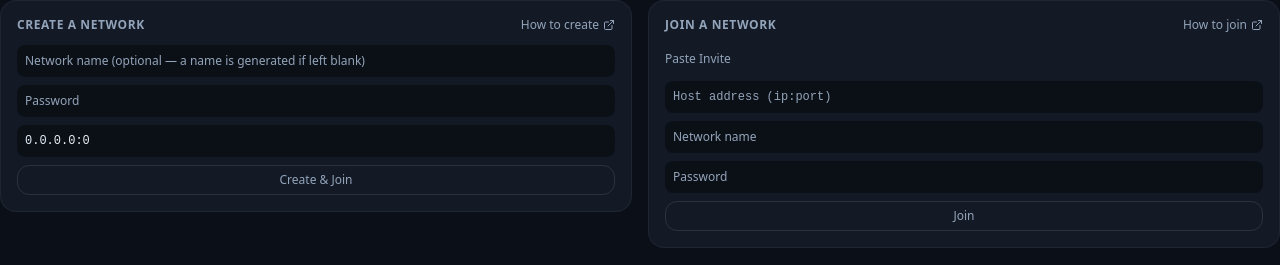
Test: VirtualNetworkPanel — not in any network › disables Create until a password is entered — the name is optional
The image size is (1280, 265).
Expected: the button with test id "vn-create-btn" is disabled, top-left (17, 165), bottom-right (615, 195)
Type "secret" into the password field with test id "vn-create-password" at (316, 101), box top-left (17, 85), bottom-right (615, 117)
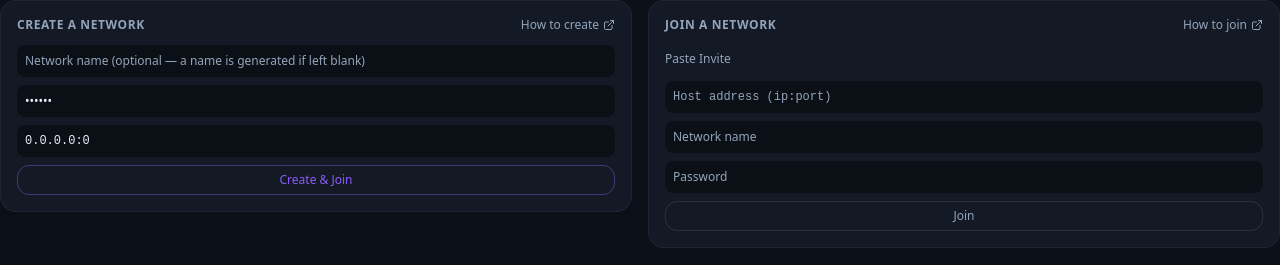
Now the button with test id "vn-create-btn" is enabled, box top-left (17, 165), bottom-right (615, 195)
